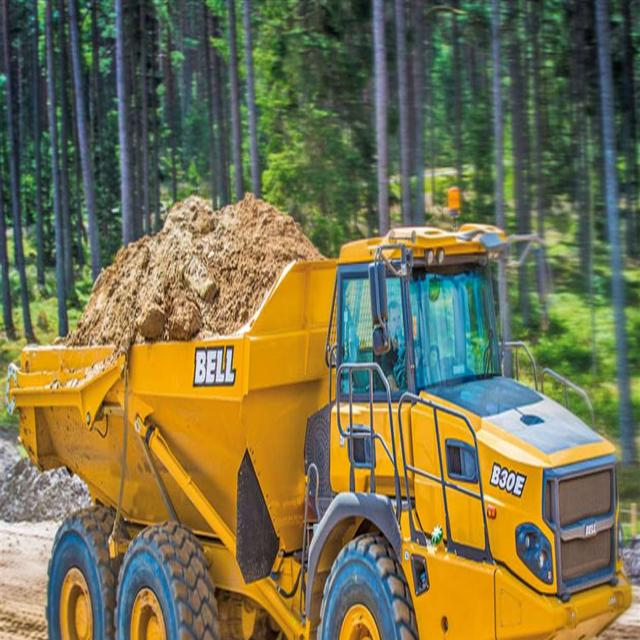dump_truck: (11, 167, 633, 638)
